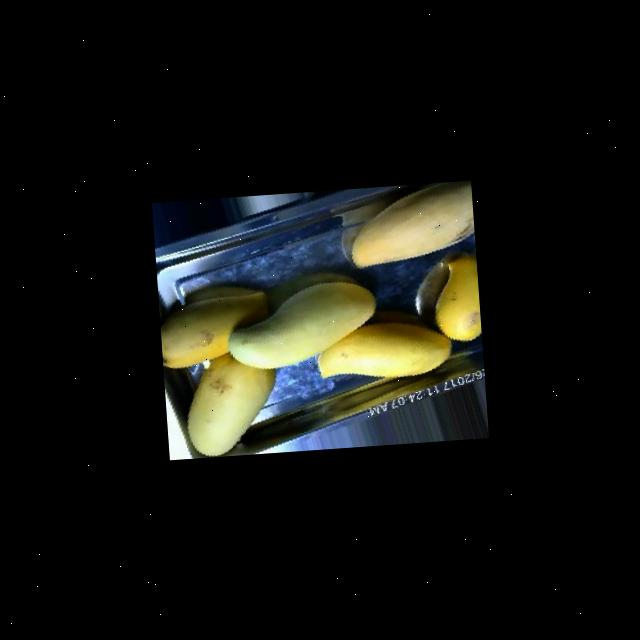Mango: (225, 279, 381, 372), (346, 181, 476, 271), (182, 351, 282, 458), (159, 285, 273, 370), (316, 317, 454, 384), (431, 254, 482, 344)
